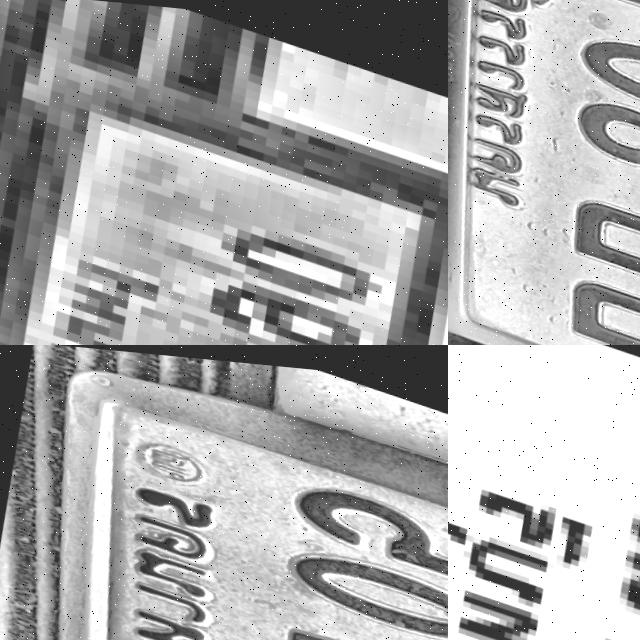license-plate: (0, 0, 448, 345), (0, 345, 448, 640), (448, 0, 640, 345), (448, 345, 640, 640)
